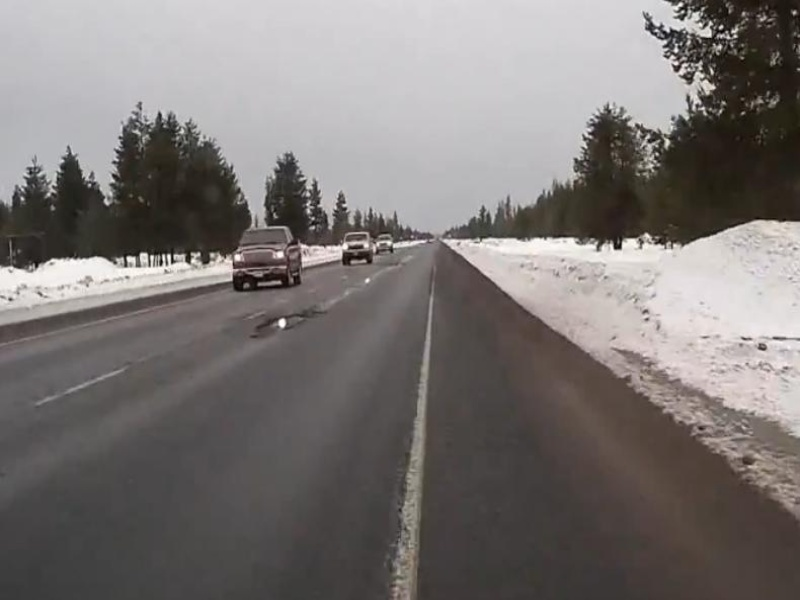pothole: (247, 310, 308, 343)
